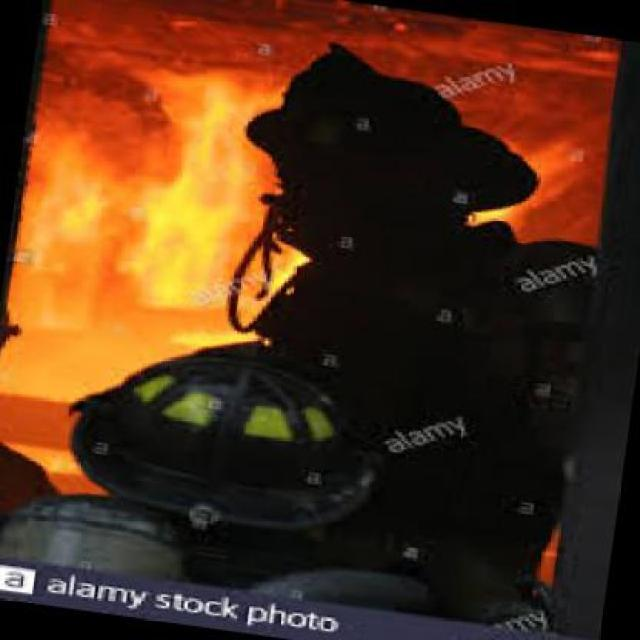Fire: (50, 7, 258, 345), (231, 6, 535, 72), (510, 39, 608, 242)
